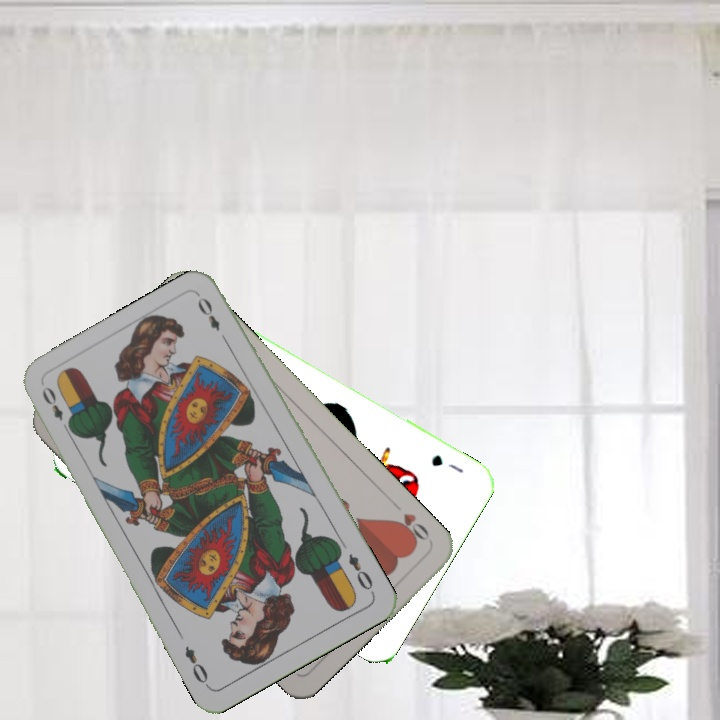EO: (38, 382, 74, 436), (344, 549, 377, 597)
GU: (427, 450, 466, 476)
HO: (388, 509, 432, 547)
